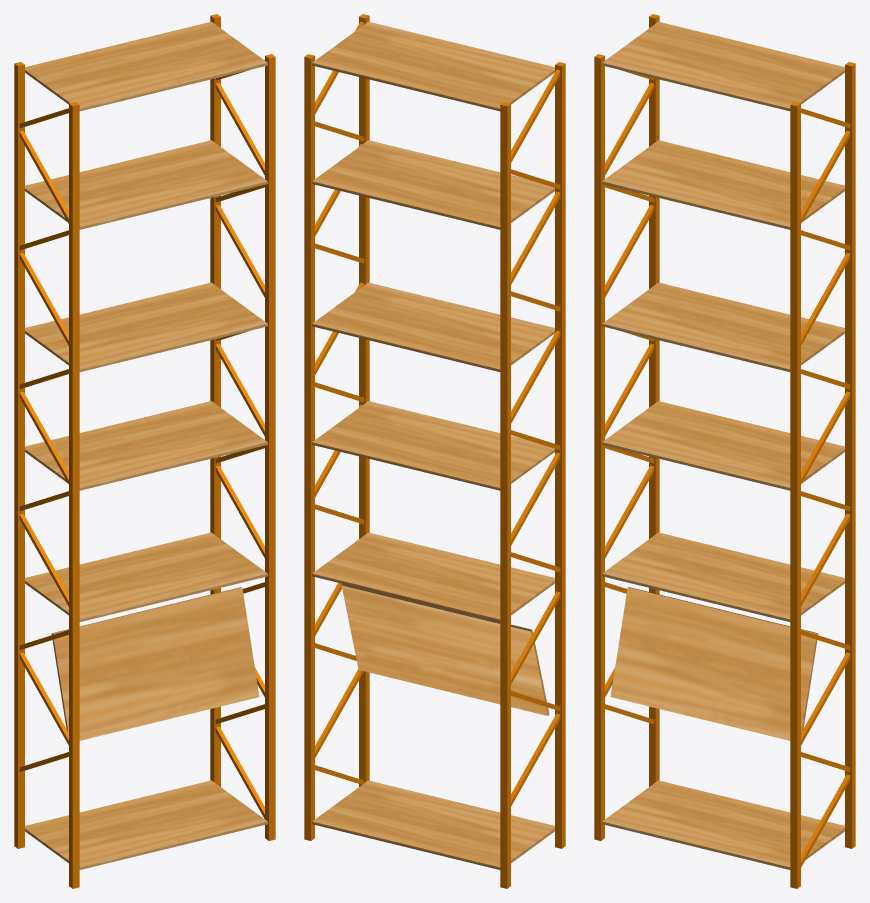
The model's file is Industrial_Rack_14.fbx.
The picture shows the model from 3 angles, left to right: view 1: azimuth 30°, elevation 25°; view 2: azimuth 150°, elevation 25°; view 3: azimuth 330°, elevation 25°; orthographic projection.
Visible parts, largest first — view 1: Industrial_Rack_14; view 2: Industrial_Rack_14; view 3: Industrial_Rack_14.
Part boxes in pixels (x1,y1,x2,y2): Industrial_Rack_14: (14,14,275,888); Industrial_Rack_14: (304,14,565,888); Industrial_Rack_14: (594,14,855,888).
Bounding box in the file's own units: 2 × 7.37 × 1.
